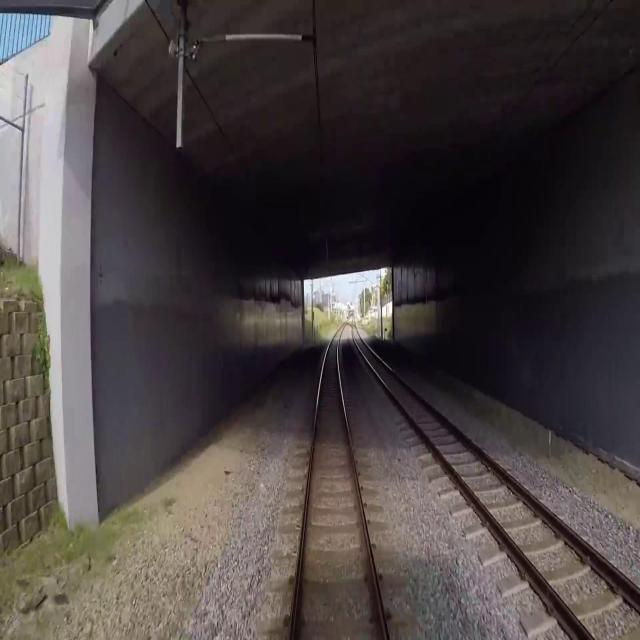rail-track: (353, 327, 640, 639), (291, 328, 383, 639)
